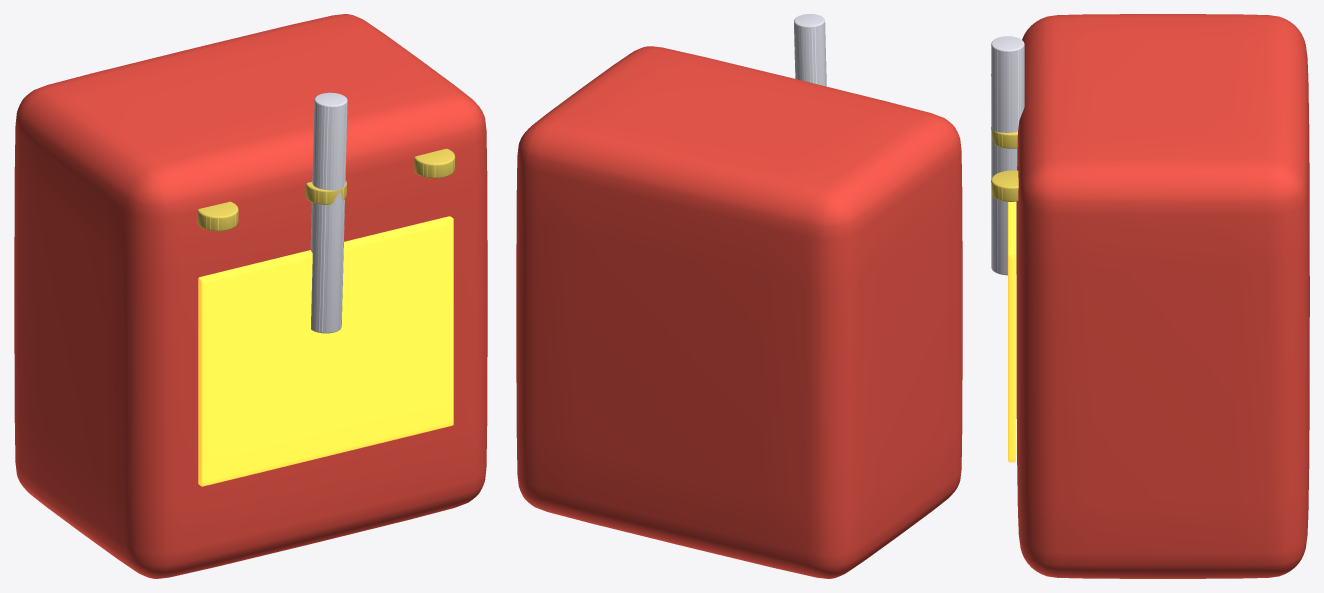
The model's file is Oven.glb.
The picture shows the model from 3 angles, left to right: view 1: azimuth 30°, elevation 25°; view 2: azimuth 150°, elevation 25°; view 3: azimuth 270°, elevation 25°; orthographic projection. The views are drawn at different scales.
Parts seen in each view (by area): view 1: Cube, Cube.001, Cylinder, Cylinder.001, Cylinder.003; view 2: Cube, Cylinder; view 3: Cube, Cylinder, Cube.001, Cylinder.003, Cylinder.002.
Boxes of the visible parts, box(x1,y1,x2,y2) form: Cube: box(14, 14, 487, 578); Cube.001: box(198, 216, 453, 486); Cylinder: box(310, 92, 347, 333); Cylinder.001: box(197, 201, 238, 231); Cylinder.003: box(414, 148, 455, 178); Cube: box(516, 46, 962, 578); Cylinder: box(794, 14, 826, 86); Cube: box(1016, 14, 1309, 578); Cylinder: box(991, 36, 1024, 275); Cube.001: box(1008, 201, 1016, 462); Cylinder.003: box(991, 170, 1018, 201); Cylinder.002: box(991, 127, 1017, 148).
Size of the model in its own units: 0.9991 by 1.22 by 0.7597.
